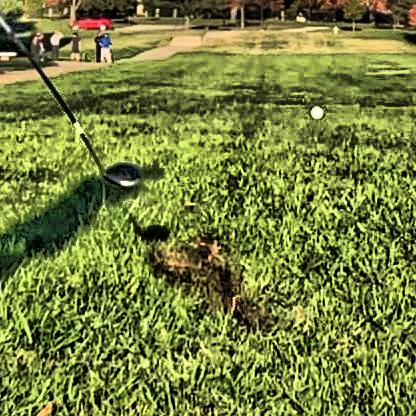golfball: (307, 101, 321, 115)
